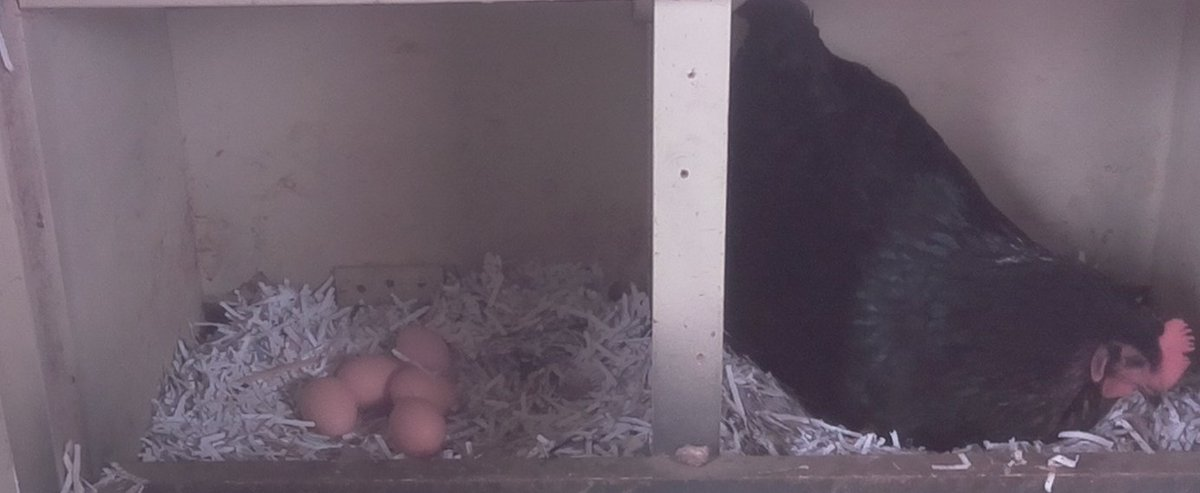egg: (282, 372, 367, 449), (382, 392, 452, 456), (338, 347, 395, 421), (388, 318, 457, 374), (388, 363, 456, 417)
hen: (732, 5, 1196, 442)
